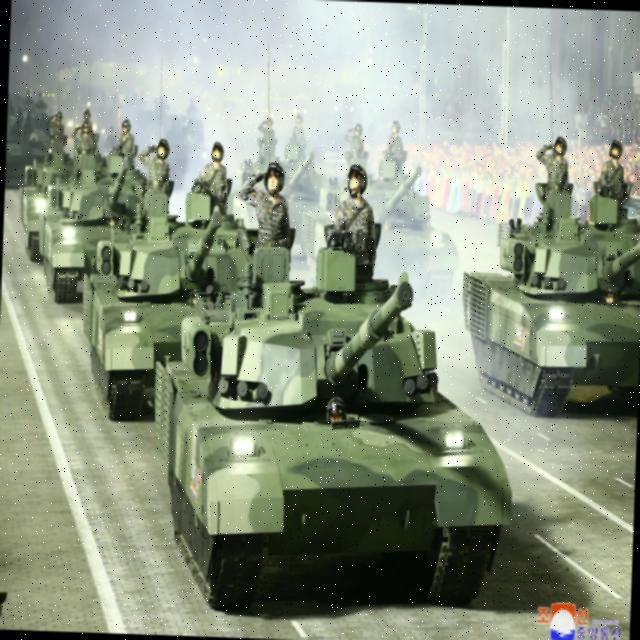north tank: (148, 227, 522, 630), (80, 198, 314, 432), (453, 174, 640, 428), (301, 147, 478, 310), (37, 158, 180, 314), (15, 124, 126, 268)
